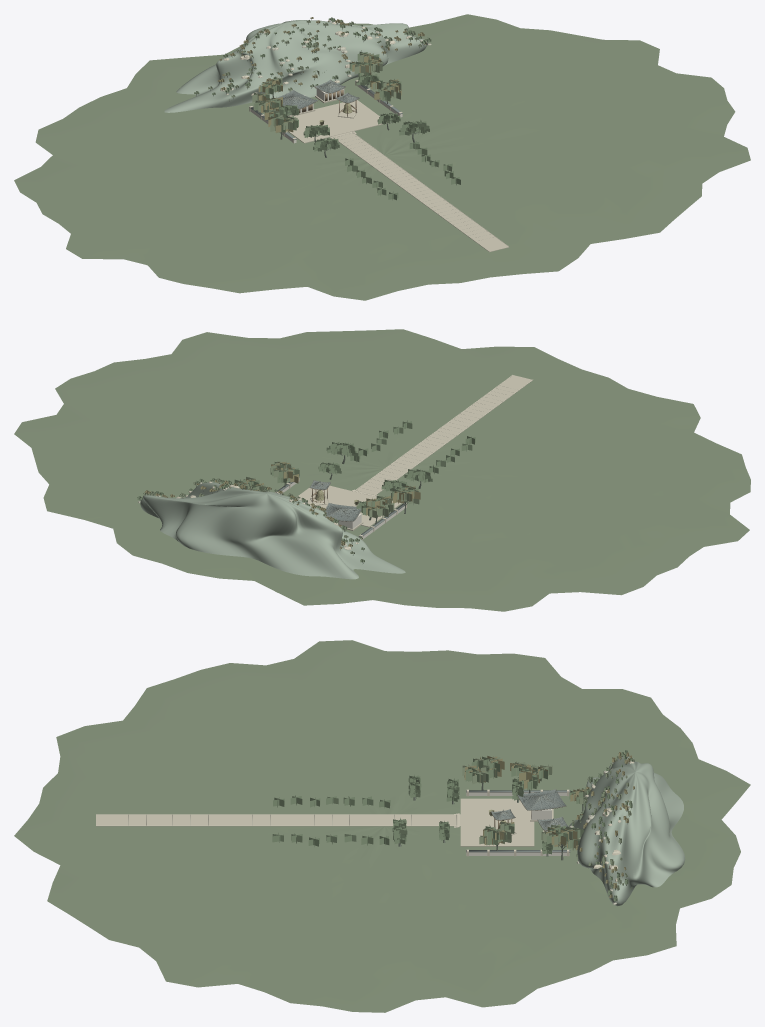
File: nanping-bell.glb
The picture shows the model from 3 angles, top to bottom: view 1: azimuth 30°, elevation 25°; view 2: azimuth 150°, elevation 25°; view 3: azimuth 270°, elevation 25°; orthographic projection. The views are drawn at different scales.
Parts seen in each view (by area): view 1: earth, mountain, stone, crown0, crown2, crown1, roof, ridge, stoneedge, bark; view 2: earth, mountain, stone, crown0, crown1, crown2, roof, ridge, stoneedge; view 3: earth, mountain, stone, crown0, crown2, crown1, roof, stoneedge, ridge, plaster.
Part boxes in pixels (x1,y1,x2,y2): earth: [14, 14, 750, 300]; mountain: [164, 20, 427, 112]; stone: [220, 22, 508, 252]; crown0: [194, 17, 460, 200]; crown2: [217, 17, 426, 132]; crown1: [208, 19, 421, 131]; roof: [250, 80, 402, 139]; ridge: [277, 80, 359, 108]; stoneedge: [249, 80, 508, 251]; bark: [196, 18, 428, 157]; earth: [14, 329, 750, 611]; mountain: [140, 482, 405, 579]; stone: [156, 375, 532, 549]; crown0: [137, 420, 475, 562]; crown1: [143, 462, 419, 553]; crown2: [144, 462, 420, 548]; roof: [275, 477, 404, 537]; ridge: [310, 480, 360, 521]; stoneedge: [275, 375, 532, 540]; earth: [14, 640, 750, 1012]; mountain: [569, 755, 685, 906]; stone: [96, 756, 634, 882]; crown0: [272, 750, 633, 901]; crown2: [464, 752, 634, 897]; crown1: [462, 756, 634, 894]; roof: [466, 789, 570, 852]; stoneedge: [96, 789, 569, 856]; ridge: [491, 789, 568, 830]; plaster: [466, 792, 569, 855].
Size of the model in its own units: 299 by 23.93 by 250.
